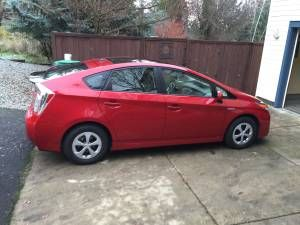Toyota Prius: (23, 54, 274, 167)
